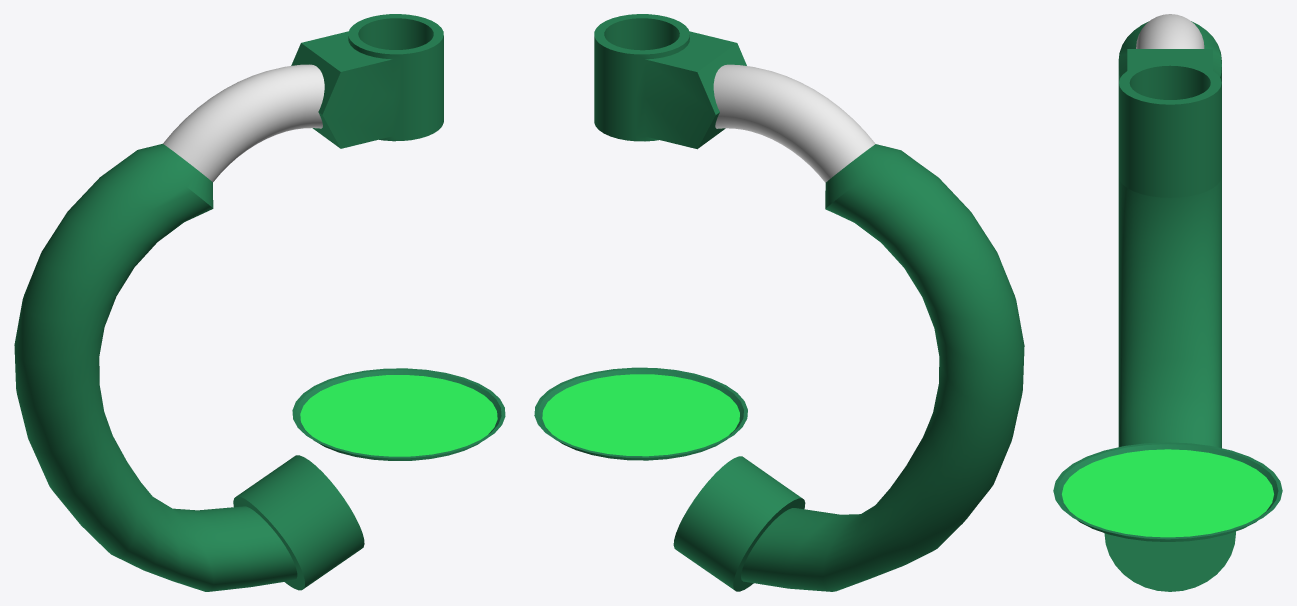
File: LID.fbx
3 views of the same model, side by side, from view 1: azimuth 30°, elevation 25°; view 2: azimuth 150°, elevation 25°; view 3: azimuth 270°, elevation 25° (orthographic). The views are drawn at different scales.
Visible parts, largest first — view 1: Cylinder, Cylinder.002; view 2: Cylinder, Cylinder.002; view 3: Cylinder, Cylinder.002.
Boxes of the visible parts, x1=… form: Cylinder: x1=14, y1=14, x2=505, y2=591; Cylinder.002: x1=163, y1=64, x2=324, y2=181; Cylinder: x1=534, y1=14, x2=1024, y2=591; Cylinder.002: x1=713, y1=64, x2=875, y2=182; Cylinder: x1=1053, y1=21, x2=1282, y2=591; Cylinder.002: x1=1136, y1=14, x2=1204, y2=48.
Bounding box in the file's own units: 66.32 × 70.83 × 26.15.
